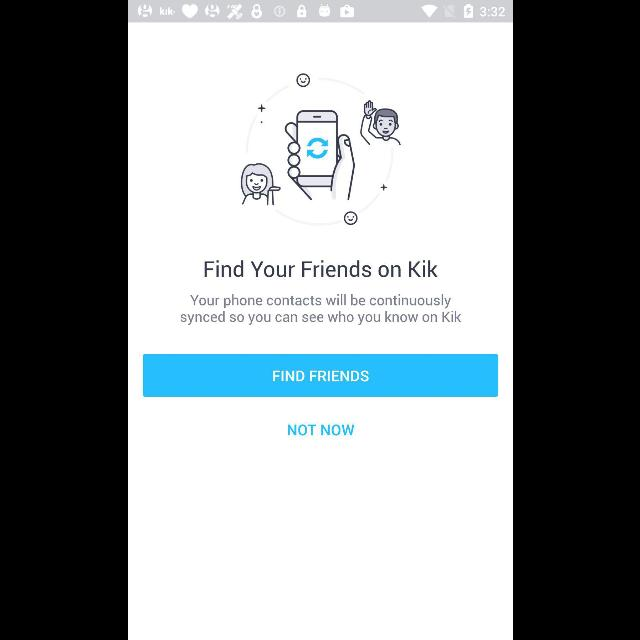image: (240, 73, 400, 227)
text: (179, 294, 461, 326), (203, 260, 437, 278), (286, 424, 354, 436)
textbutton: (142, 354, 498, 396)
uppertaskbar: (128, 1, 512, 23)
